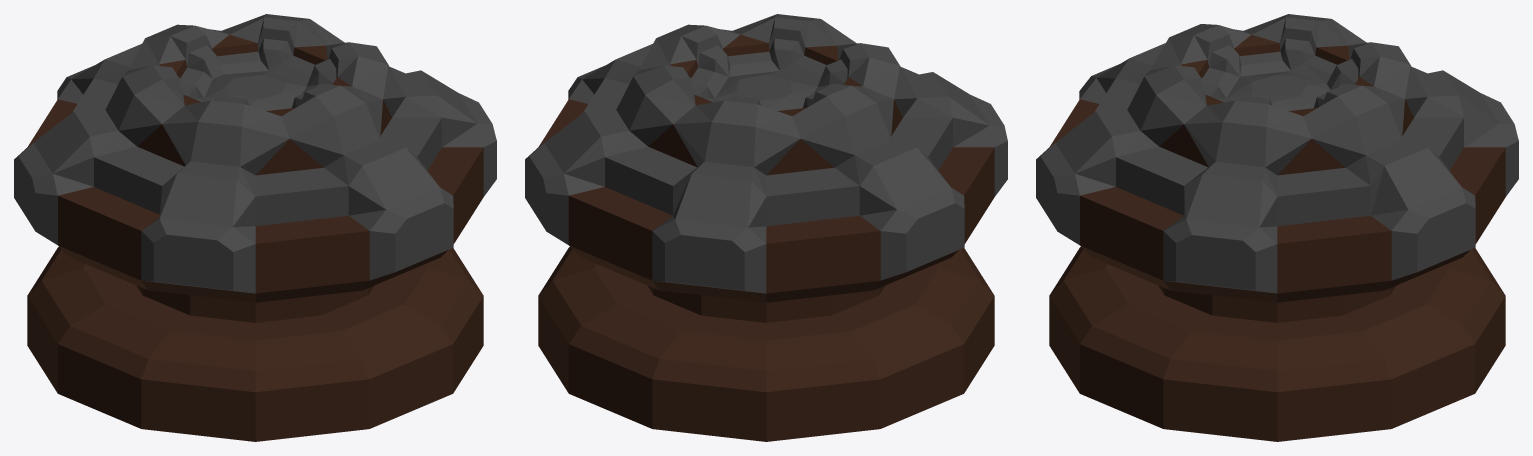
The model's file is SpinTower.fbx.
3 renders of one model, left to right at view 1: azimuth 30°, elevation 25°; view 2: azimuth 150°, elevation 25°; view 3: azimuth 270°, elevation 25°, orthographic.
Visible parts, largest first — view 1: Rotate, SpinTower; view 2: Rotate, SpinTower; view 3: Rotate, SpinTower.
Part boxes in pixels (x1,y1,x2,y2): Rotate: (14,14,496,302); SpinTower: (27,247,483,441); Rotate: (525,14,1007,302); SpinTower: (538,247,994,441); Rotate: (1036,14,1518,302); SpinTower: (1049,247,1505,441).
Bounding box in the file's own units: 212 × 138 × 212.
